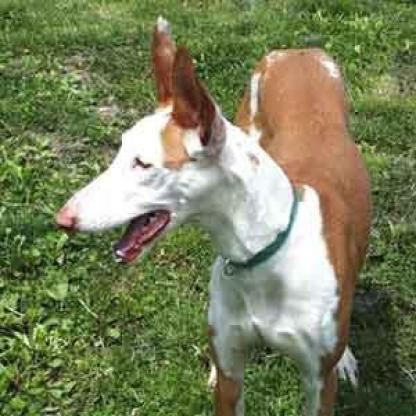dog: (64, 9, 376, 414)
